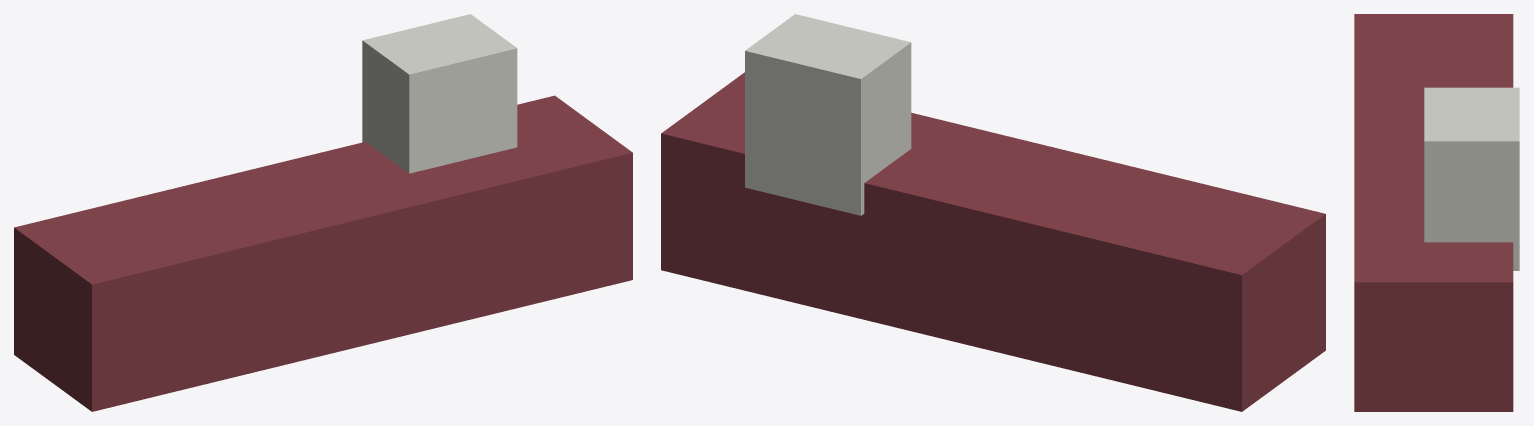
Rendered from mouth.glb.
The picture shows the model from 3 angles, left to right: view 1: azimuth 30°, elevation 25°; view 2: azimuth 150°, elevation 25°; view 3: azimuth 270°, elevation 25°; orthographic projection. The views are drawn at different scales.
Parts seen in each view (by area): view 1: mouth2; view 2: mouth2; view 3: mouth2.
Boxes of the visible parts, box(x1,y1,x2,y2) form: mouth2: box(14, 14, 632, 411); mouth2: box(661, 14, 1325, 411); mouth2: box(1354, 14, 1519, 411).
Bounding box in the file's own units: 0.2 × 0.08 × 0.052.
